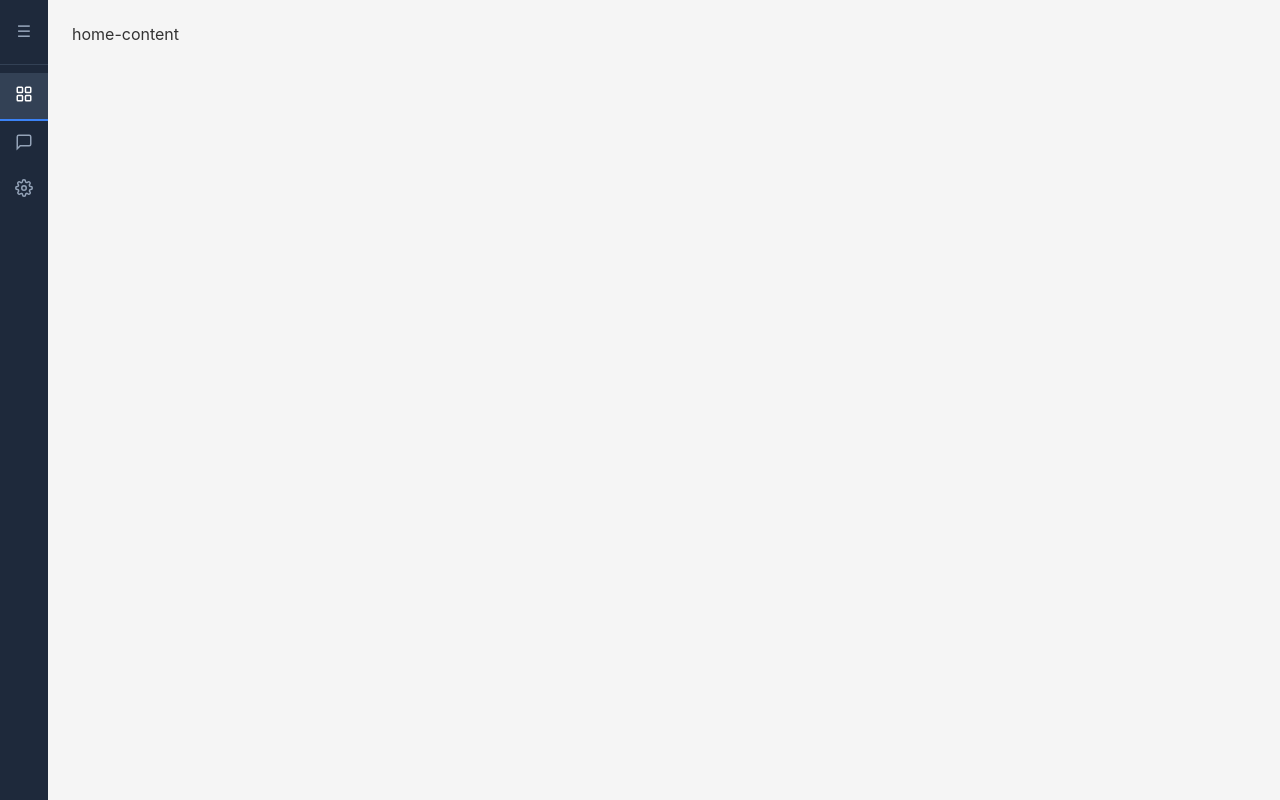
Layout 狭幅サイドバー › 狭幅で展開すると backdrop が出て、backdrop タップで閉じる
Click the button titled "Toggle sidebar" at (24, 32), box [13,20,35,44]
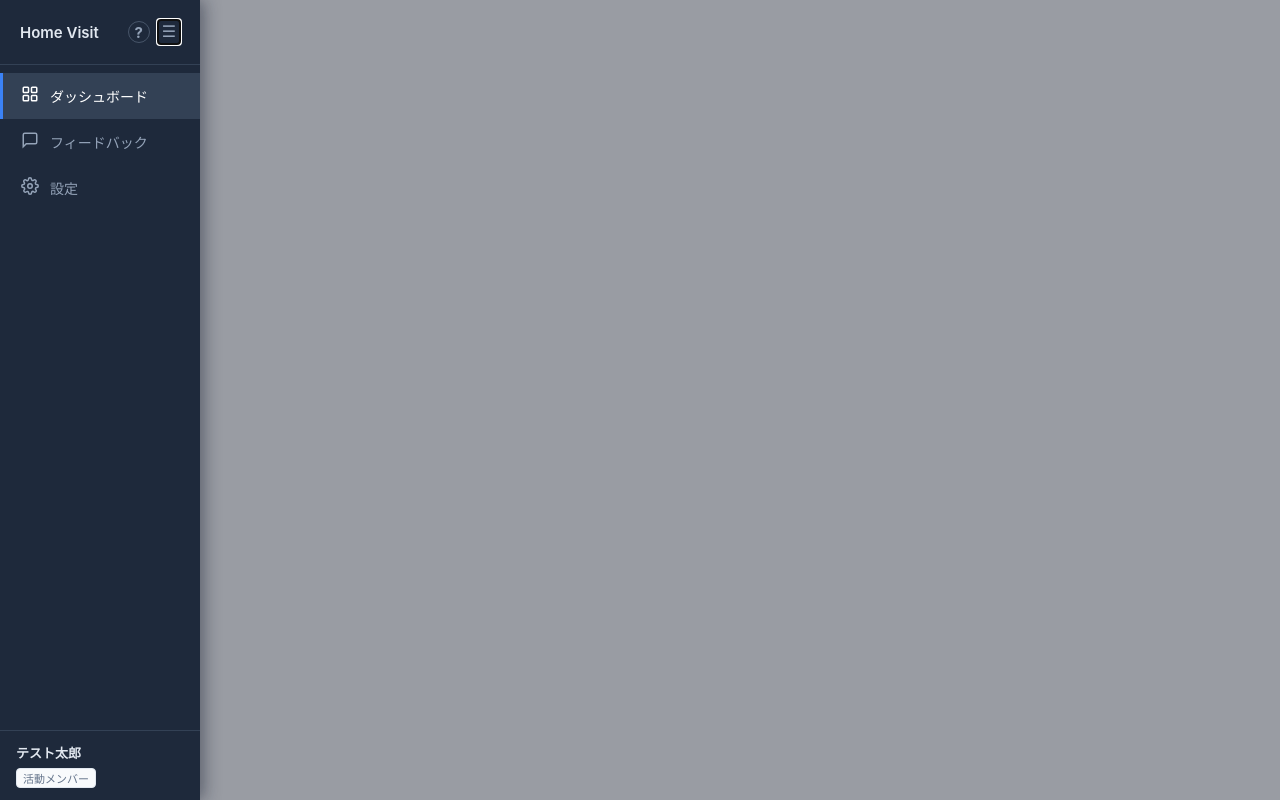
Expected: the element with class "sidebar-backdrop" is shown
Click the element with class "sidebar-backdrop" at (640, 400), box [0,0,1279,799]
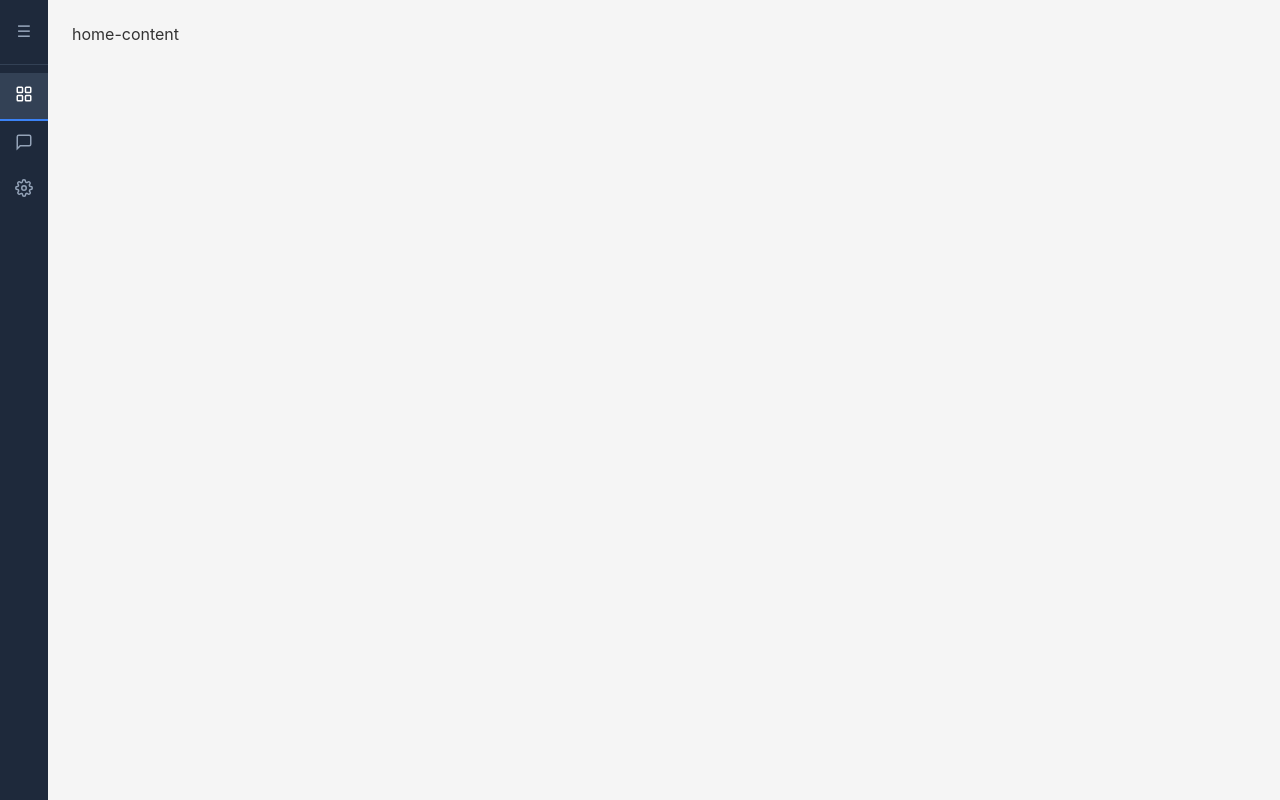
Expected: the element with class "sidebar-backdrop" is gone
